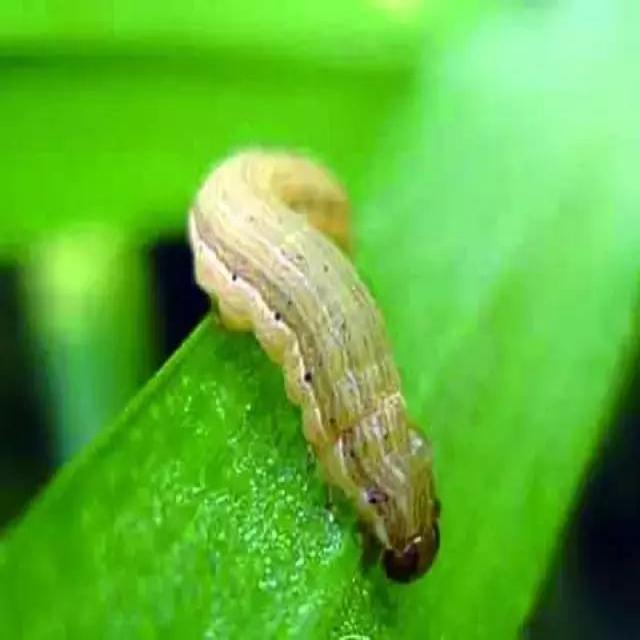armyworm: (177, 140, 450, 606)
